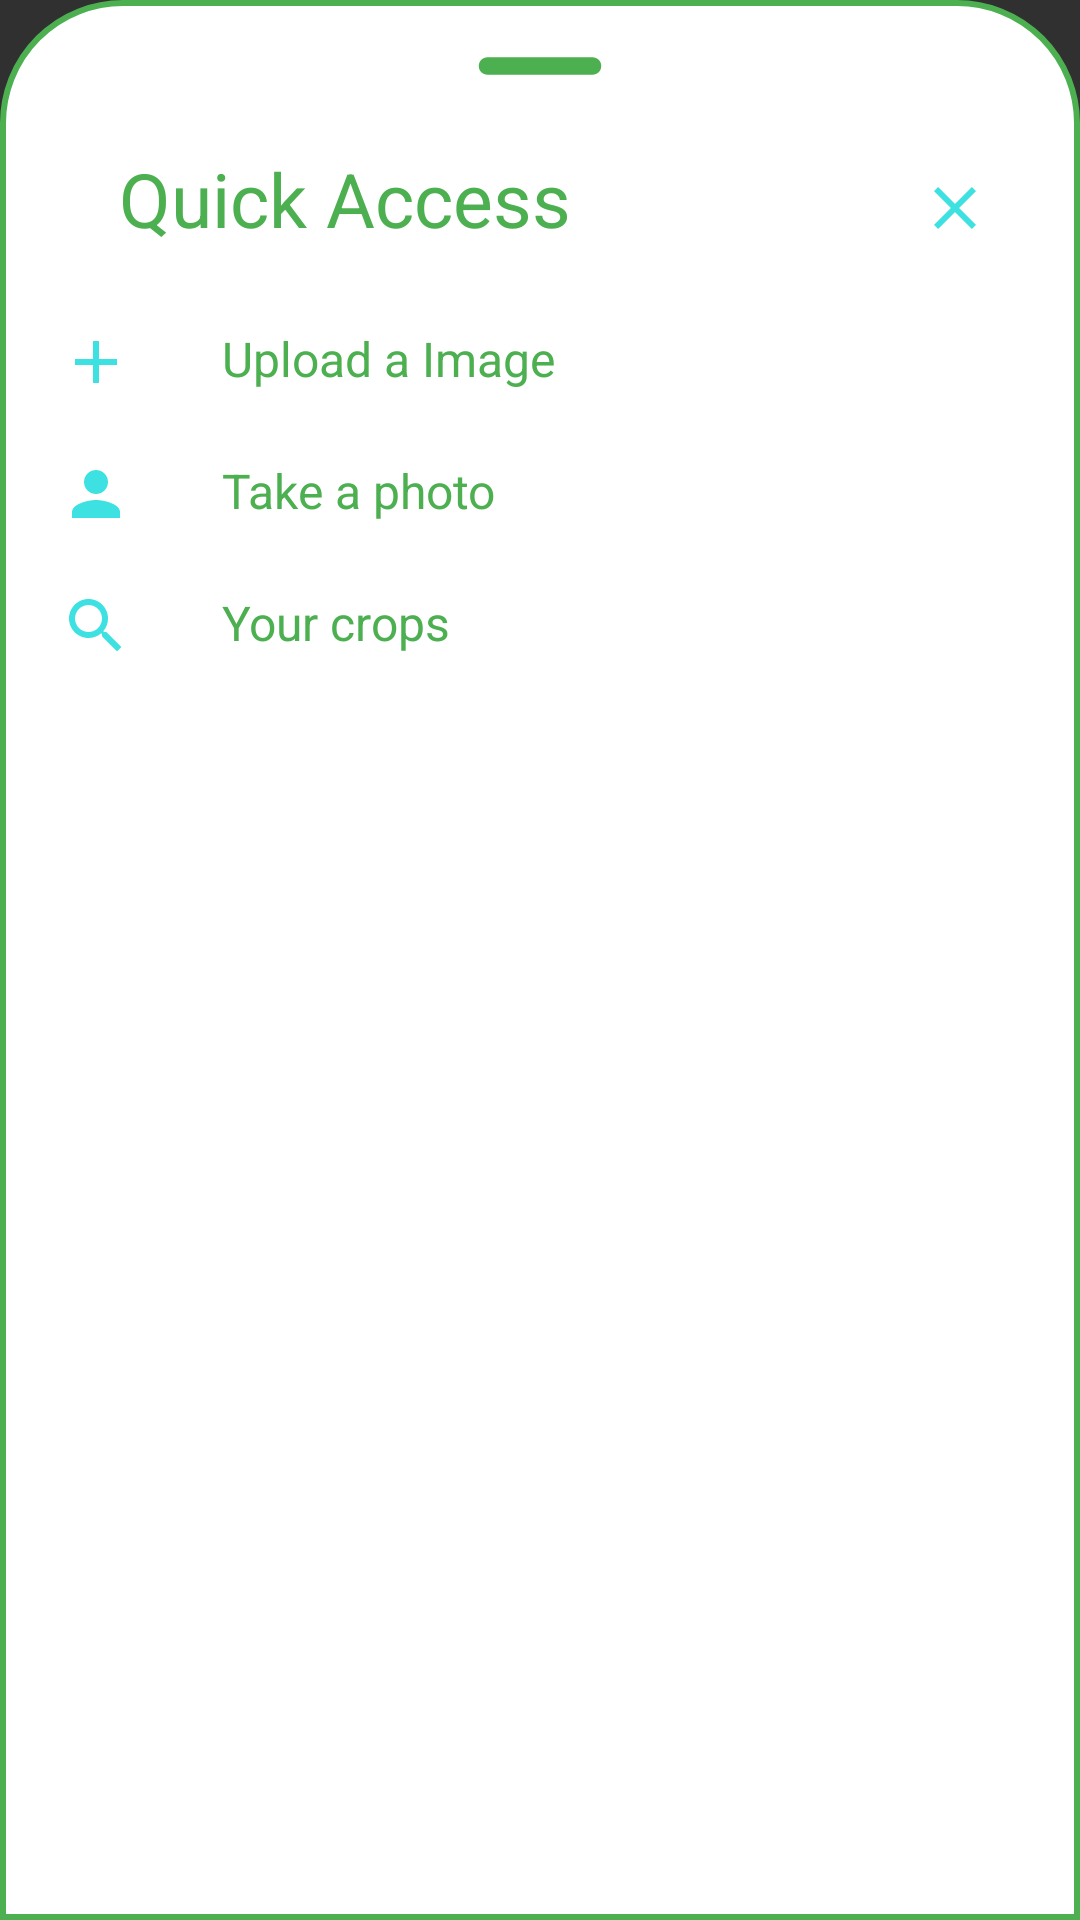

Locate icon controls on the screen. Image size 1080 × 1920, boxes as bbox=[x1, y1, x2, y2].
add: bbox=[75, 341, 117, 383]
clear: bbox=[934, 187, 976, 229]
search: bbox=[69, 599, 121, 651]
user: bbox=[72, 470, 120, 518]
